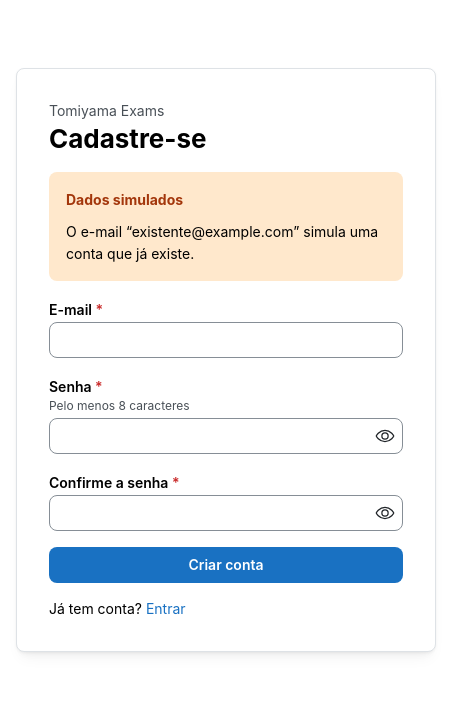
Test: cadastro de responsável (§ 6.1): passo do e-mail e senha › valida {"email":""} no cliente
Clear the field labelled "E-mail *" at (226, 340), box [49,322,403,358]
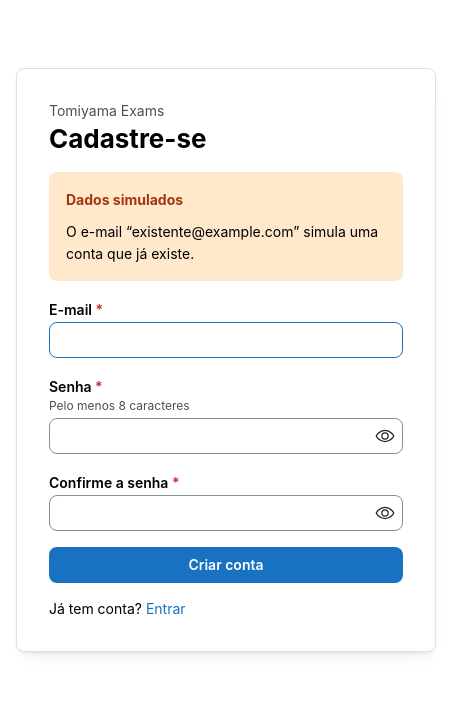
Type "senha-forte-1" into the password field labelled "Senha *".
click(226, 436); type("senha-forte-1")  # box [50,419,402,453]
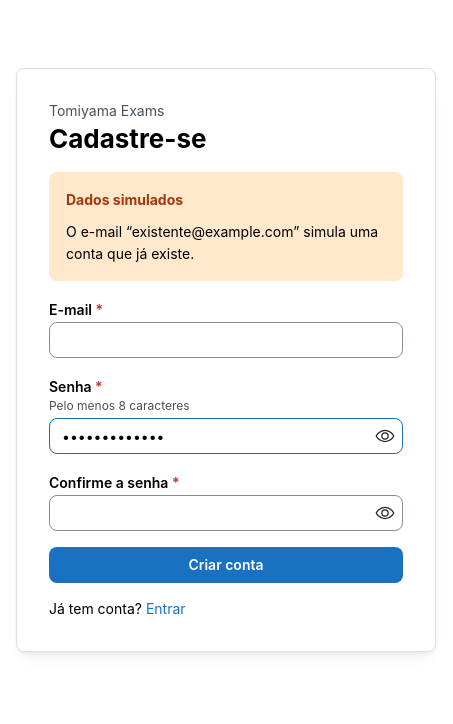
Type "senha-forte-1" into the password field labelled "Confirme a senha *".
click(226, 513); type("senha-forte-1")  # box [50,496,402,530]
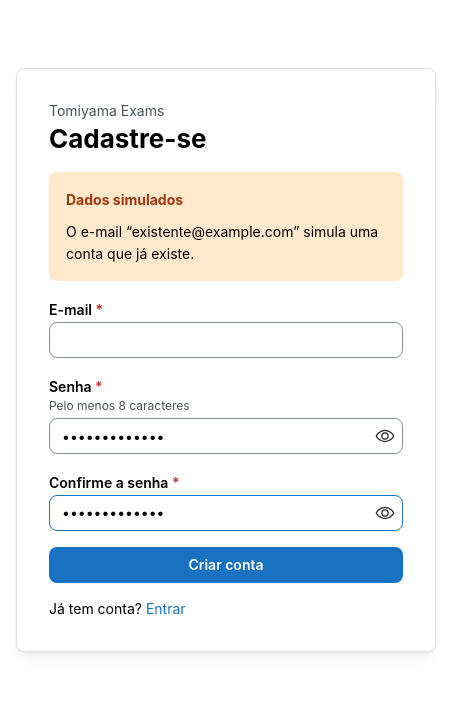
Click the button "Criar conta".
click(226, 565)  # box [49,547,403,583]
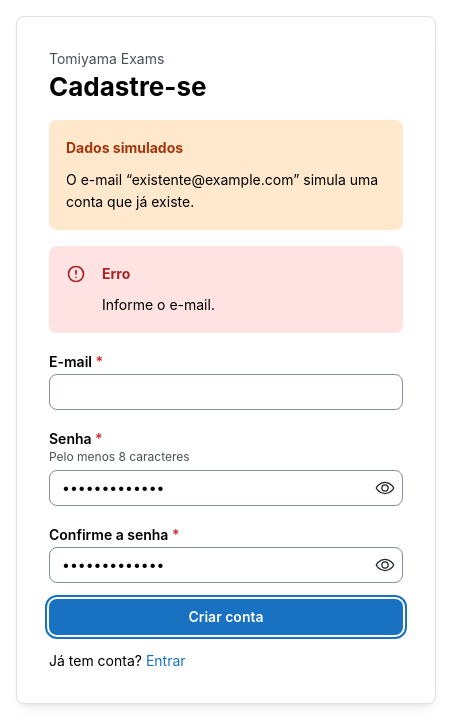
Expected: the heading "Cadastre-se" is shown, [49,71,207,102]
Result: the message shows "Informe o e-mail." at [102,296,215,313]
